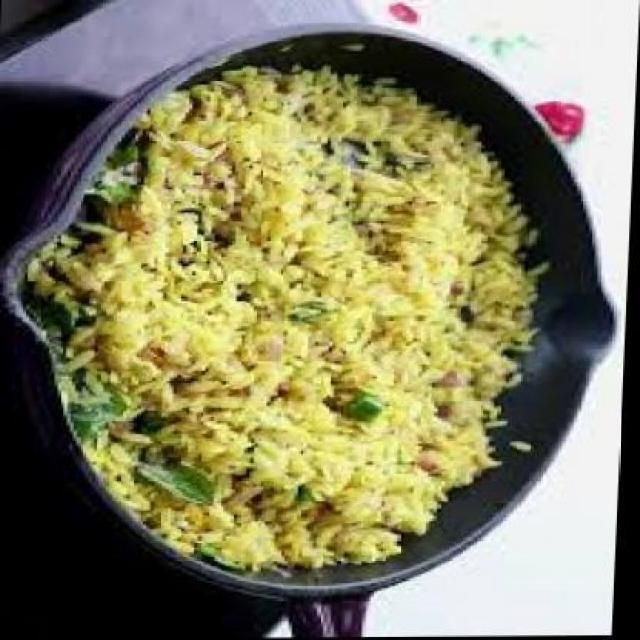poha: (18, 64, 556, 574)
